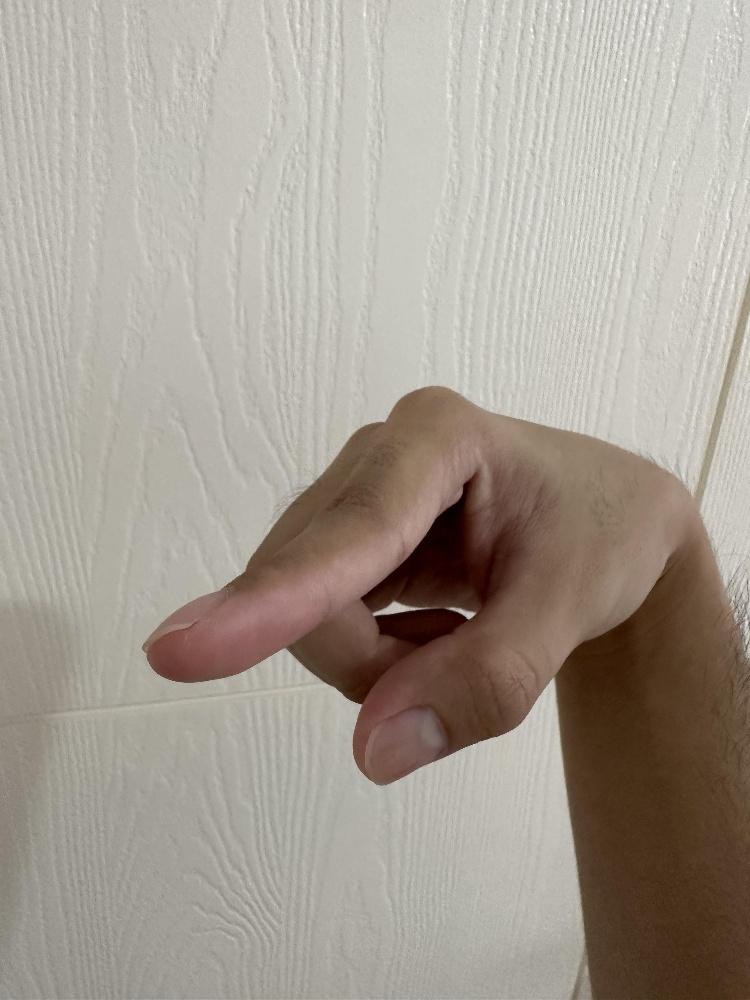z: (136, 379, 683, 790)
